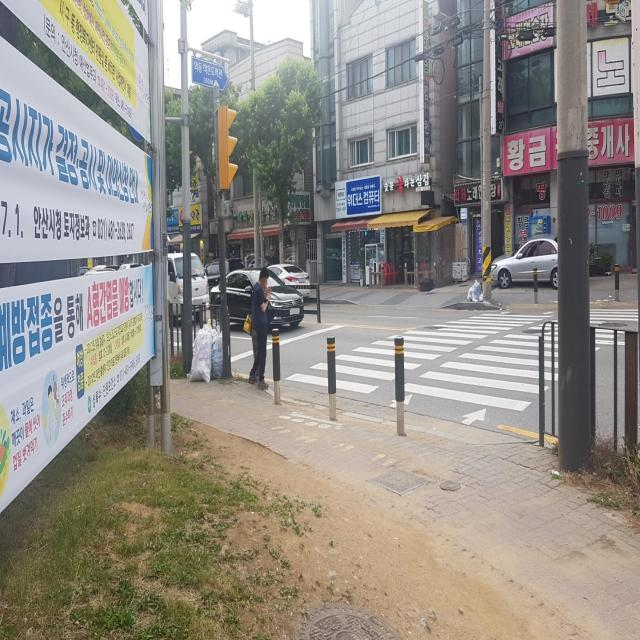횡단보도: (282, 306, 627, 429)
